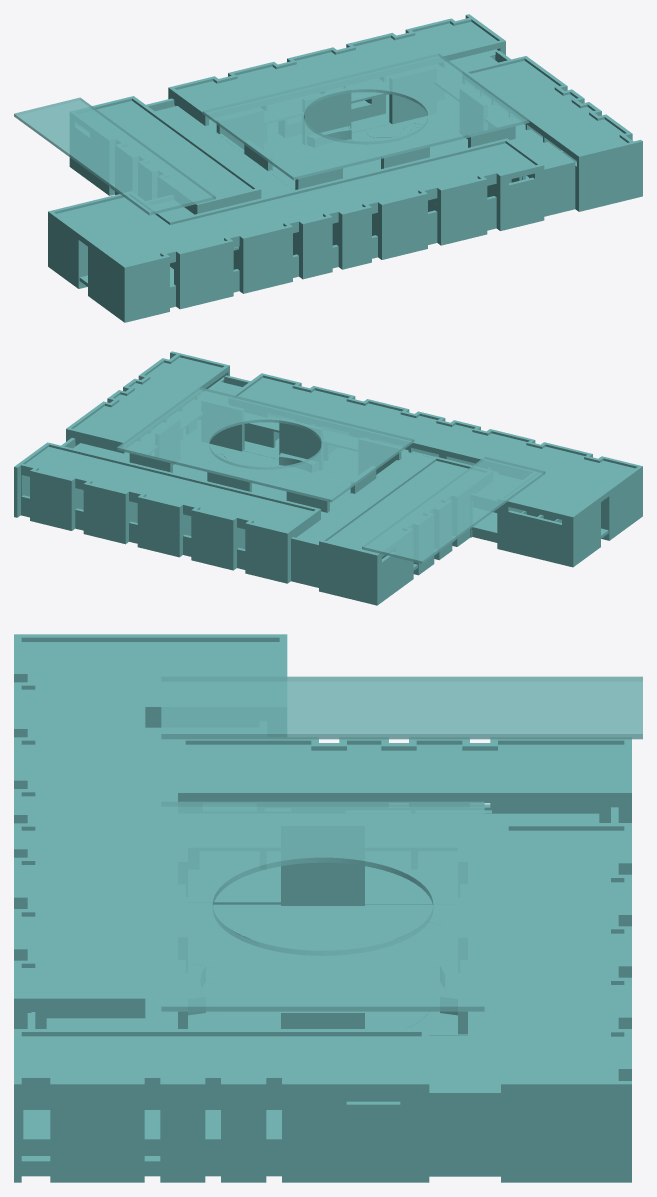
Rendered from Project 06_ADC.glb.
3 views of the same model, one above another, from view 1: azimuth 30°, elevation 25°; view 2: azimuth 150°, elevation 25°; view 3: azimuth 270°, elevation 25° (orthographic). The views are drawn at different scales.
Size of the model in its own units: 1 by 0.1175 by 0.5909.
